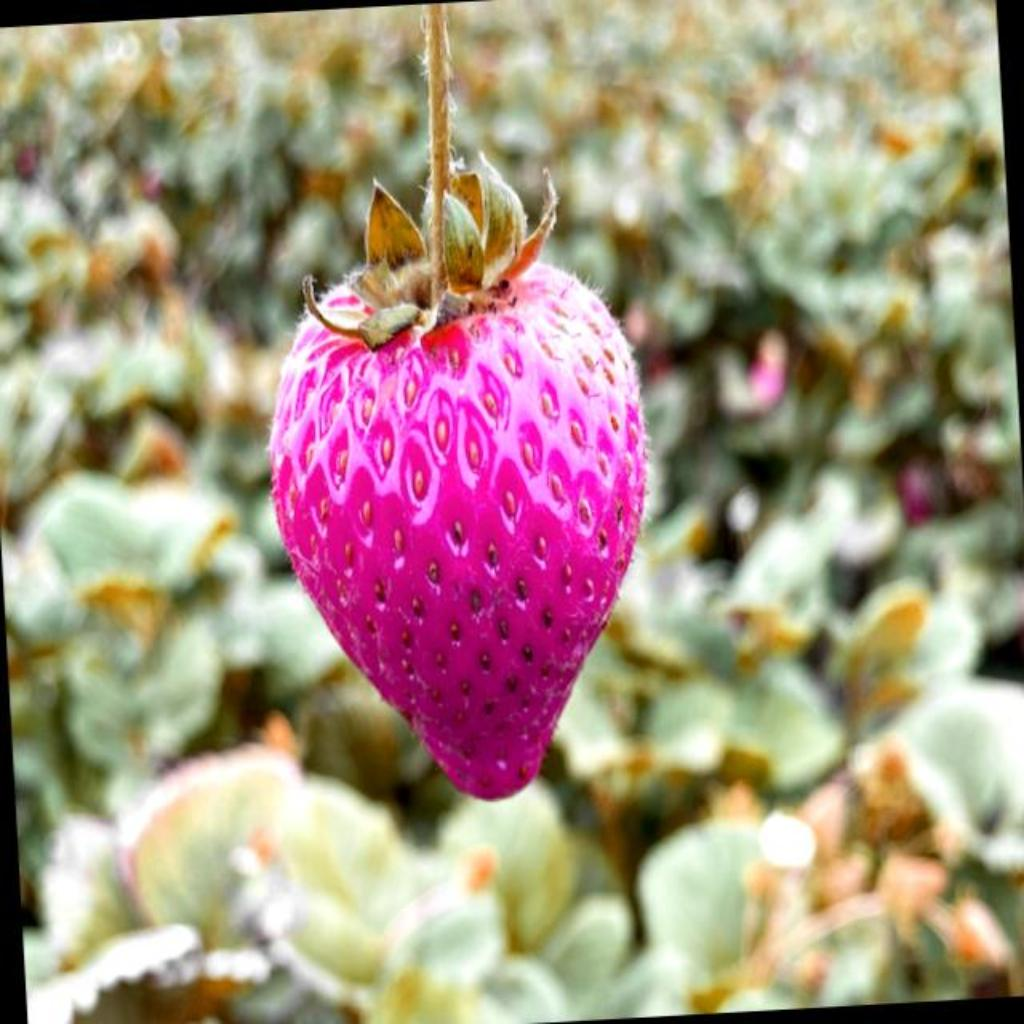strawberry: (270, 8, 646, 798)
